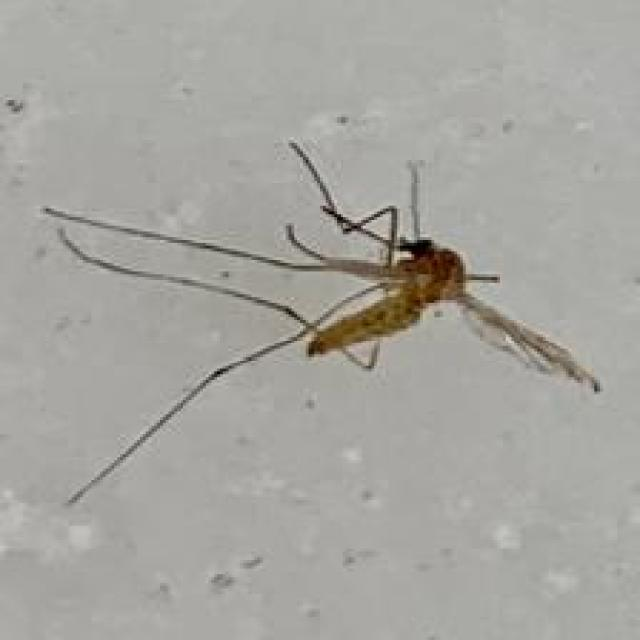Culex: (41, 137, 604, 506)
